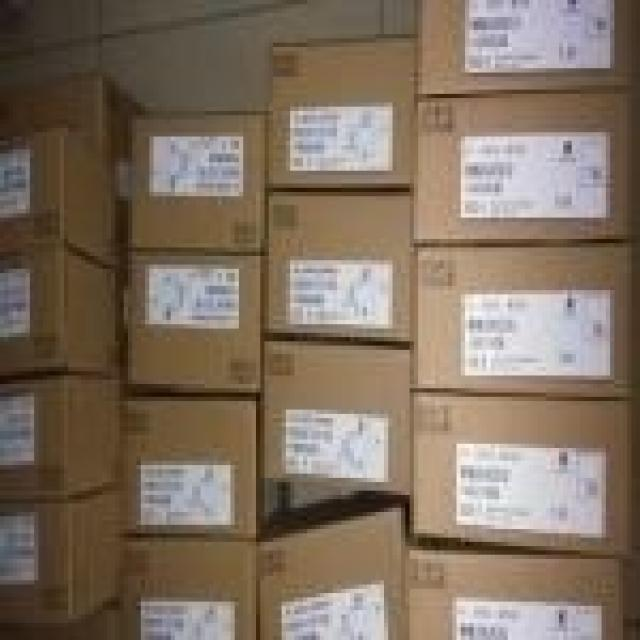Carton: (128, 34, 636, 555), (0, 397, 252, 614), (0, 128, 115, 495), (256, 508, 401, 636), (410, 550, 619, 636), (124, 252, 256, 388)
